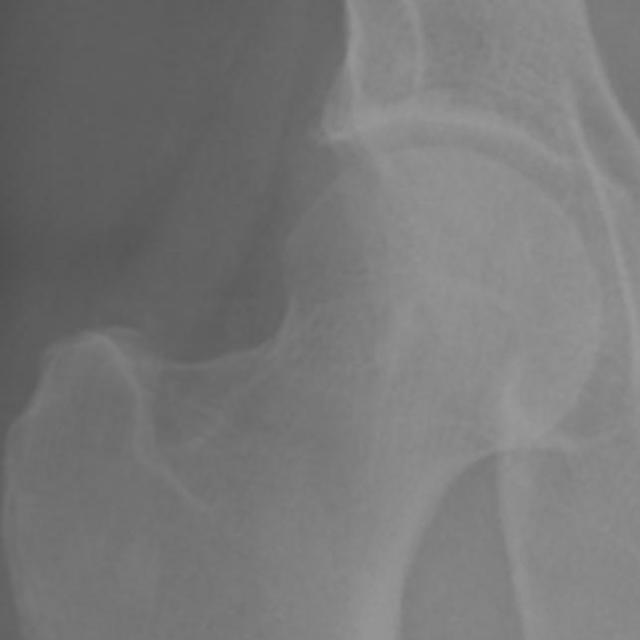Fitted_femural_head: (335, 148, 432, 335)
